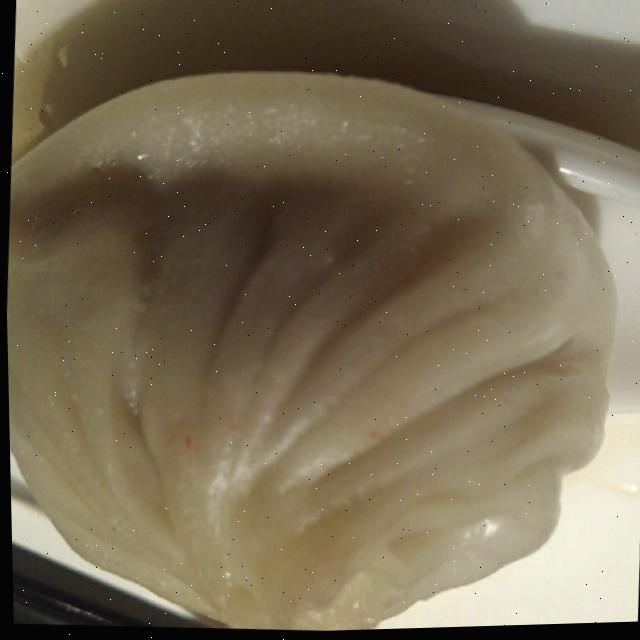带馅早点: (1, 45, 631, 640)
